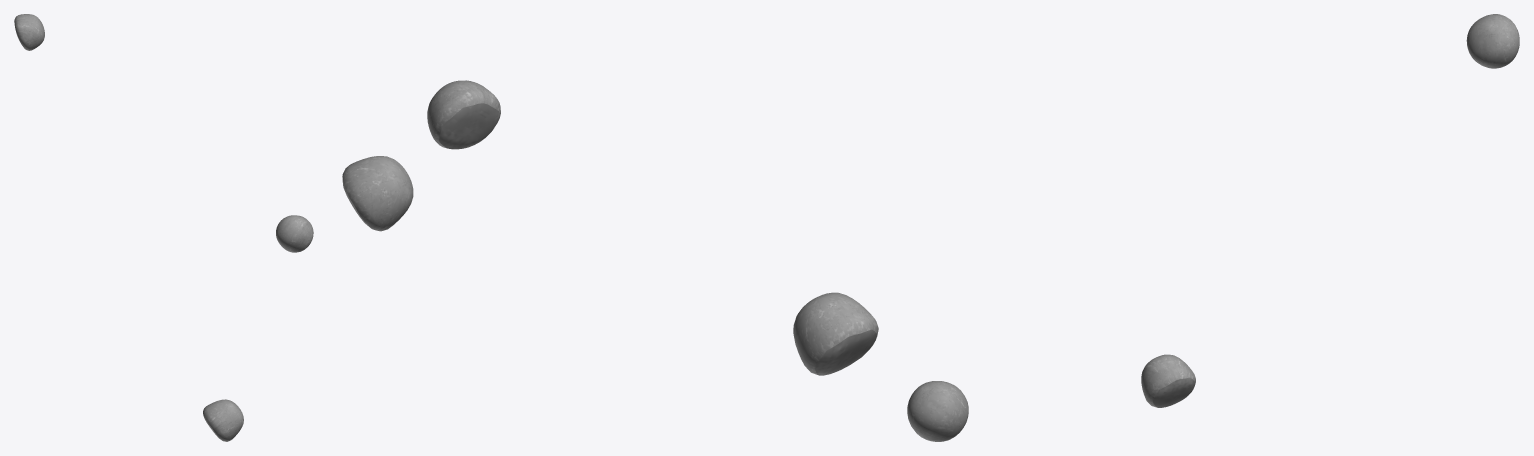
File: lighting (xmasexitentrancecombo).glb
3 views of the same model, side by side, from view 1: azimuth 30°, elevation 25°; view 2: azimuth 150°, elevation 25°; view 3: azimuth 270°, elevation 25° (orthographic). The views are drawn at different scales.
Parts seen in each view (by area): view 1: gumdrop_light_LOD0 (×3); view 2: gumdrop_light_LOD0 (×3); view 3: gumdrop_light_LOD0 (×3).
Boxes of the visible parts, x1,y1,x2,y2 form: gumdrop_light_LOD0 (×3): (14, 14, 313, 441); gumdrop_light_LOD0 (×3): (342, 80, 878, 375); gumdrop_light_LOD0 (×3): (907, 14, 1519, 441).
Size of the model in its own units: 2.61 by 3.86 by 5.13.
Materials: 1 (1 with a texture image).
